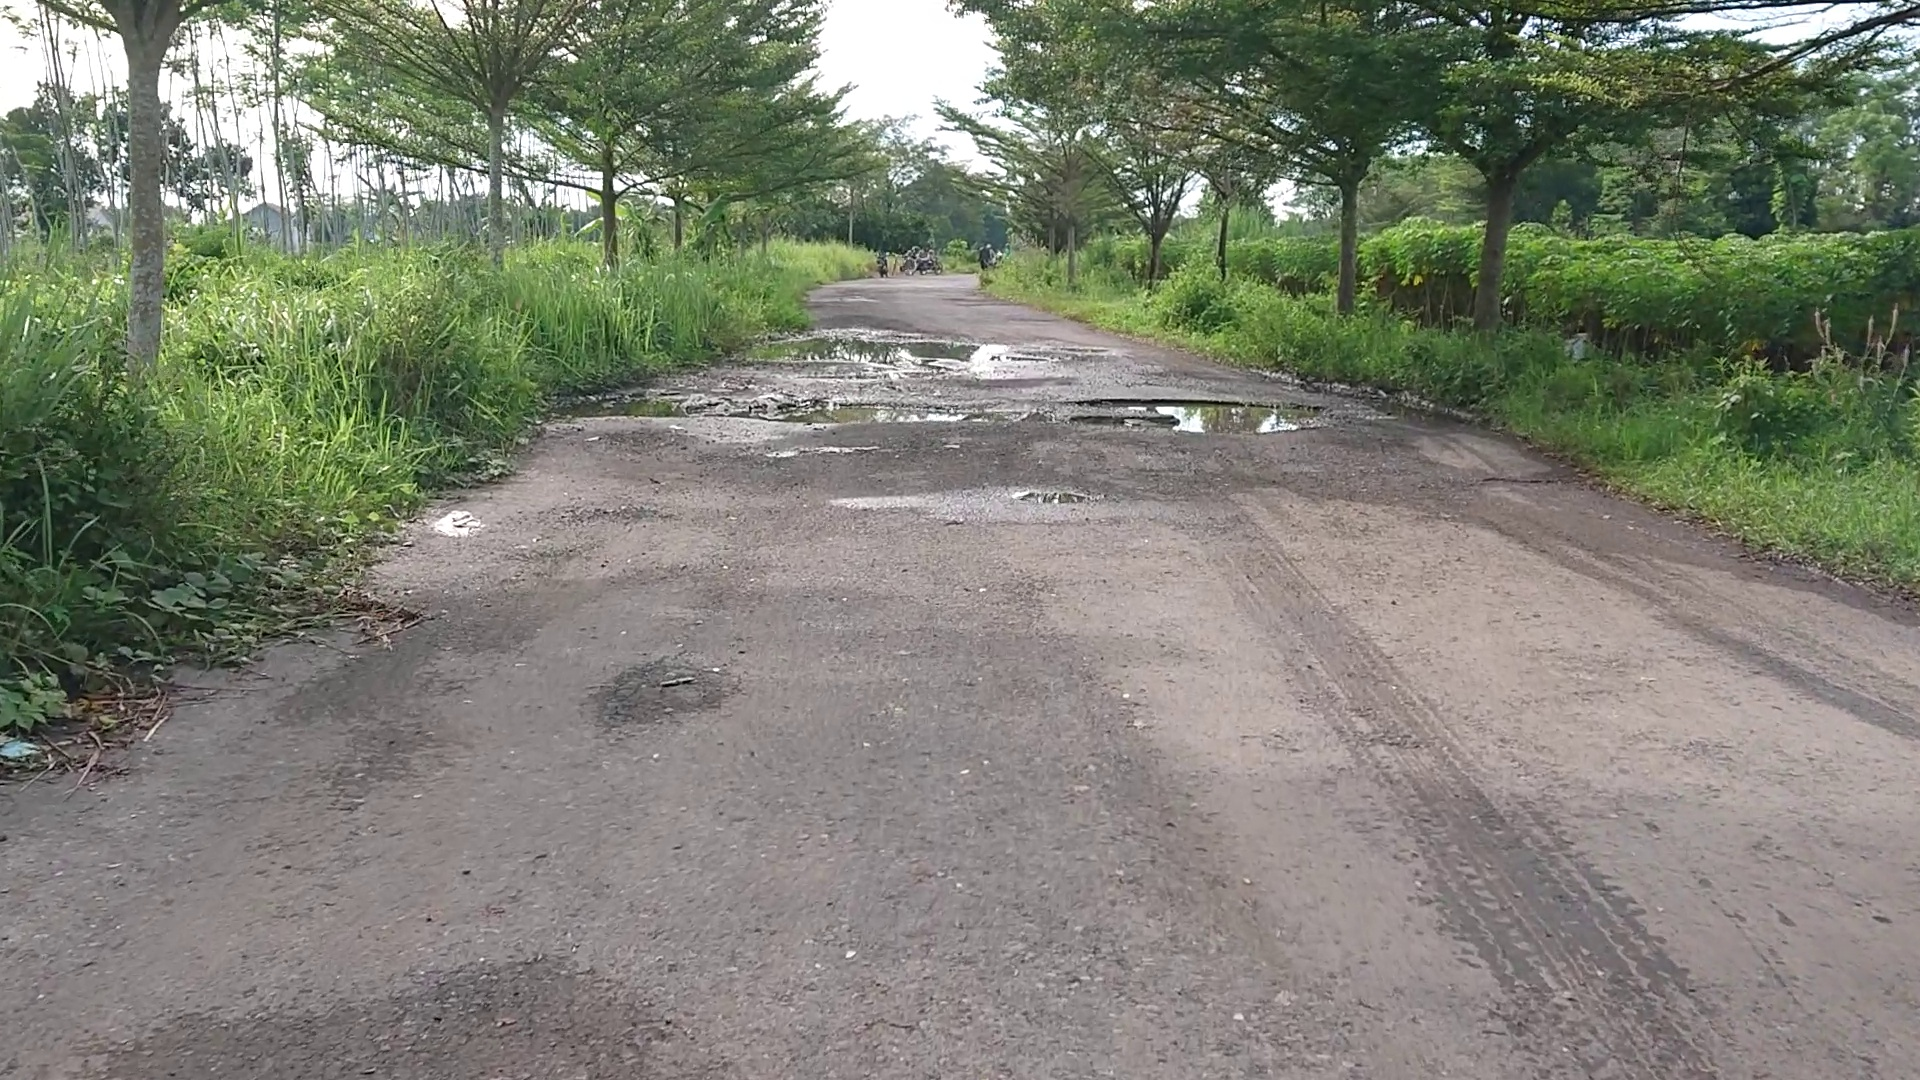Berlubang: (1058, 384, 1333, 431), (564, 385, 765, 429), (753, 338, 1021, 368), (789, 401, 1035, 429)
